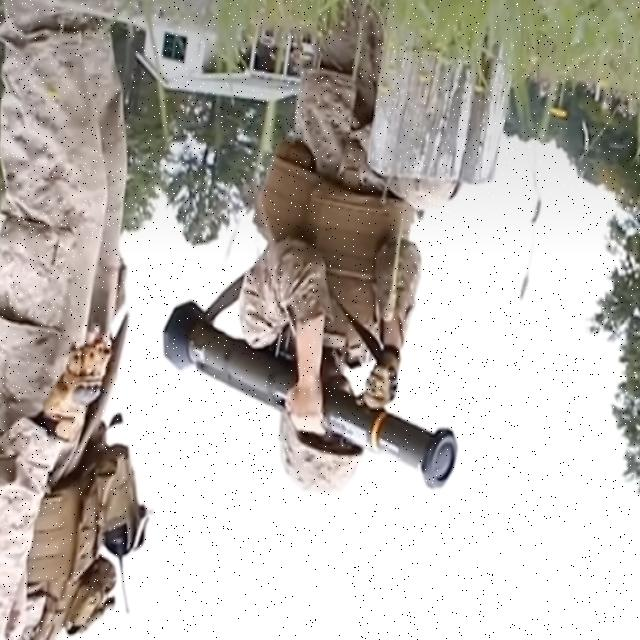bazooka: (156, 280, 475, 505)
